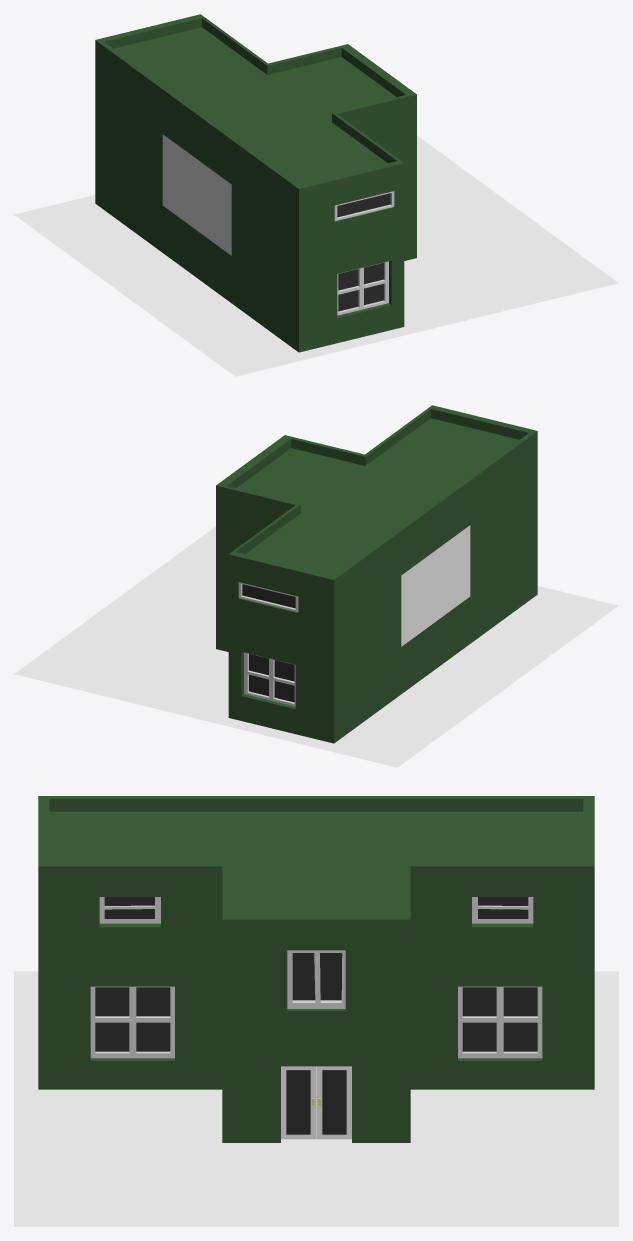
File: house_2.glb
3 views of the same model, one above another, from view 1: azimuth 30°, elevation 25°; view 2: azimuth 150°, elevation 25°; view 3: azimuth 270°, elevation 25° (orthographic). The views are drawn at different scales.
Visible parts, largest first — view 1: casa_2, Plane.004, Cube.004; view 2: casa_2, Plane.004, Cube.004; view 3: casa_2, Plane.004, Cube.003, Cube.005, casa_2.001, Cube.001, Cube.
Part boxes in pixels (x1,y1,x2,y2): casa_2: (95, 14, 416, 352); Plane.004: (14, 135, 618, 376); Cube.004: (337, 261, 388, 315); casa_2: (216, 405, 537, 743); Plane.004: (14, 526, 618, 767); Cube.004: (244, 652, 295, 706); casa_2: (38, 796, 594, 1142); Plane.004: (14, 971, 618, 1226); Cube.003: (90, 986, 542, 1058); Cube.005: (286, 1070, 346, 1134); casa_2.001: (281, 1066, 351, 1139); Cube.001: (99, 897, 533, 923); Cube: (287, 950, 345, 1008).
Size of the model in its own units: 2 by 0.821 by 2.
Materials: 1 (1 with a texture image).
